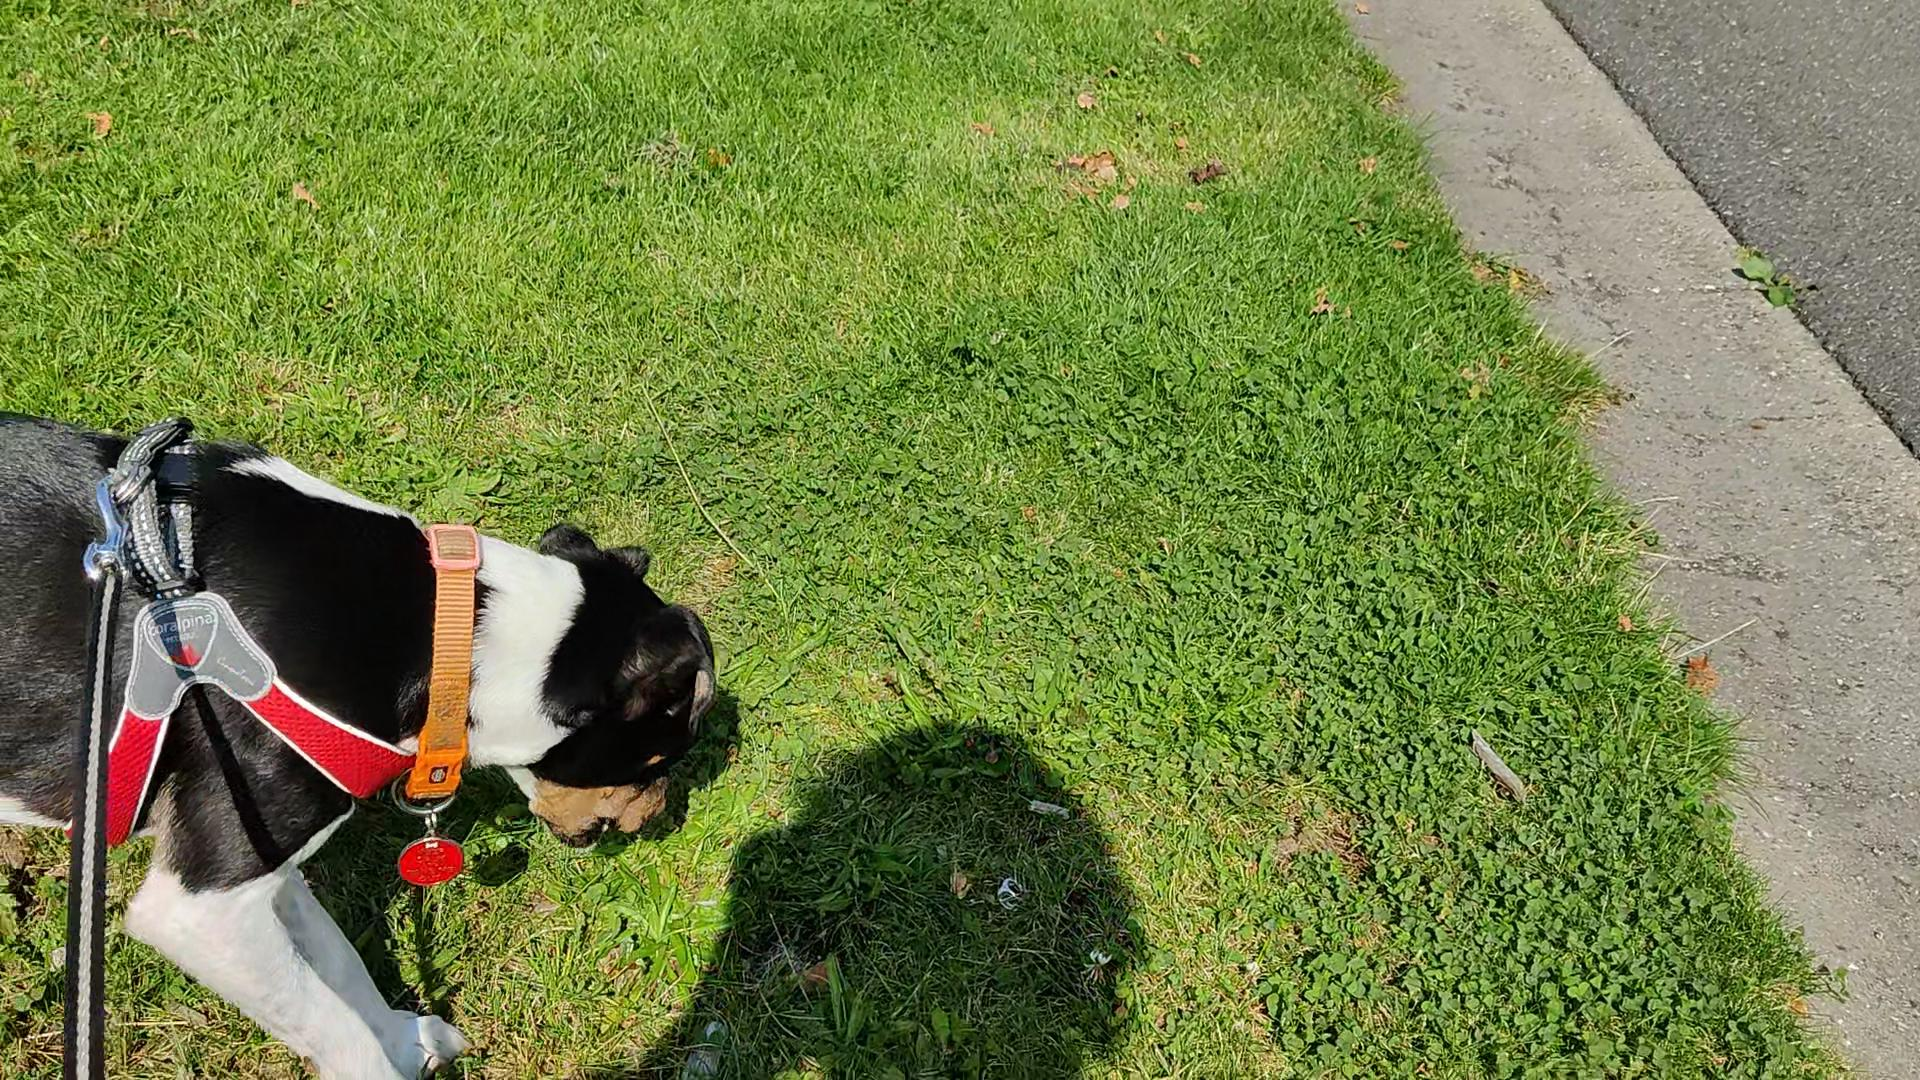Dog: (0, 397, 728, 1079)
